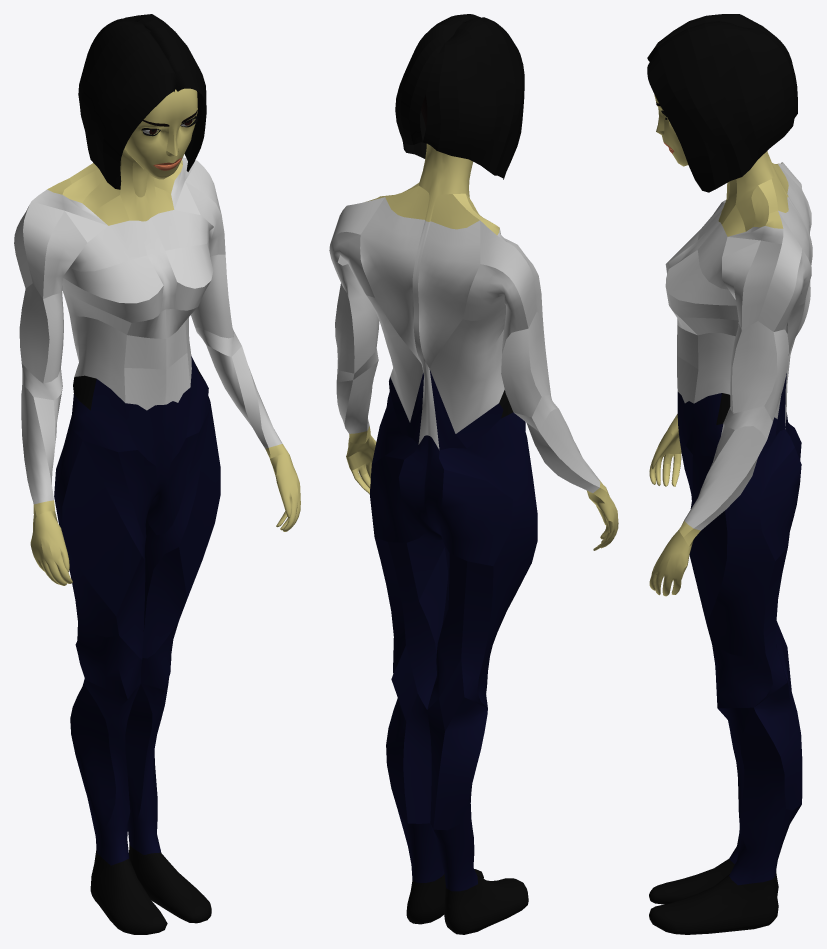
The model's file is cabeza abajo.obj.
3 renders of one model, left to right at view 1: azimuth 30°, elevation 25°; view 2: azimuth 150°, elevation 25°; view 3: azimuth 270°, elevation 25°, orthographic.
Visible parts, largest first — view 1: Piel.006; view 2: Piel.006; view 3: Piel.006.
Part boxes in pixels (bbox=[...]): Piel.006: bbox=[14, 14, 300, 934]; Piel.006: bbox=[329, 14, 618, 934]; Piel.006: bbox=[647, 14, 812, 934].
Size of the model in its own units: 1.02 by 3.25 by 0.5444.
